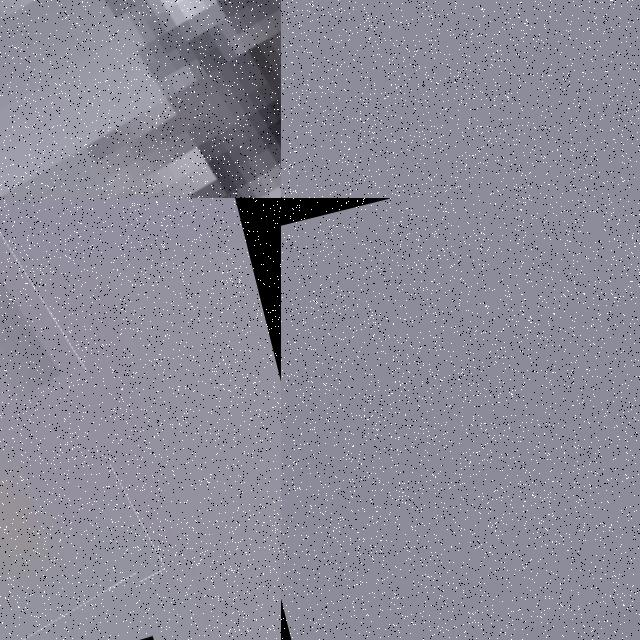drone: (0, 198, 157, 640), (0, 0, 281, 198)
